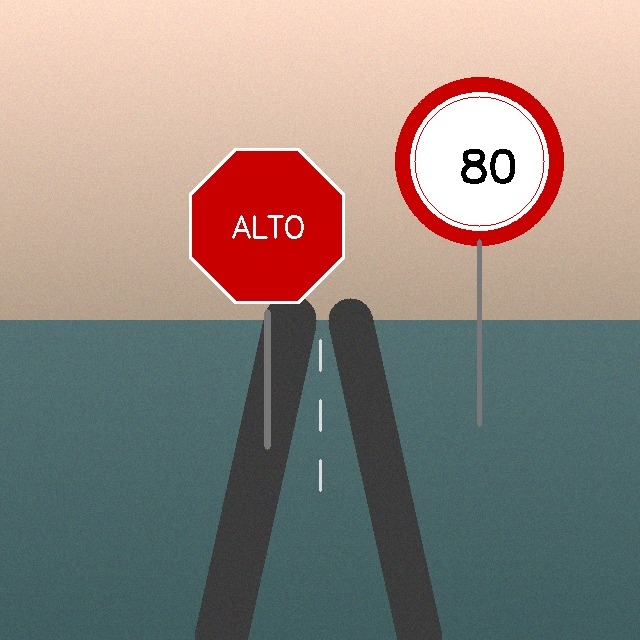alto: (182, 141, 353, 312)
velocidad: (400, 82, 559, 241)
